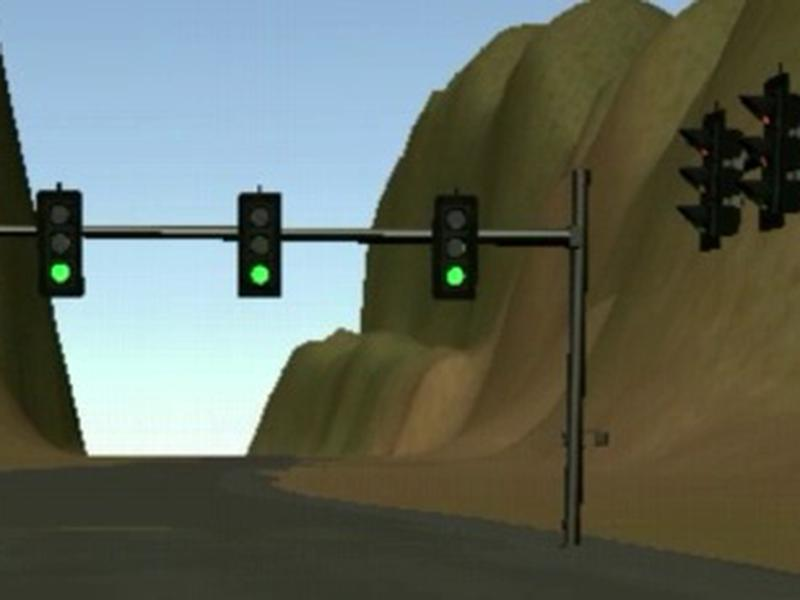Green: (39, 191, 85, 297), (432, 196, 478, 301), (236, 192, 280, 298)
